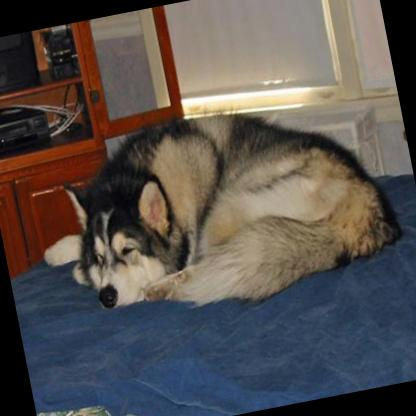malamute: (19, 76, 408, 338)
